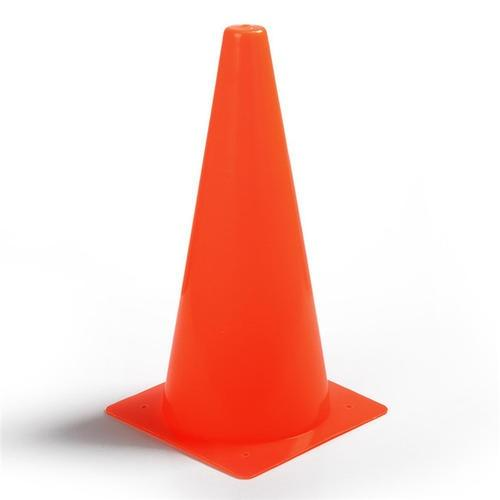cone_barrel: (134, 34, 349, 453)
